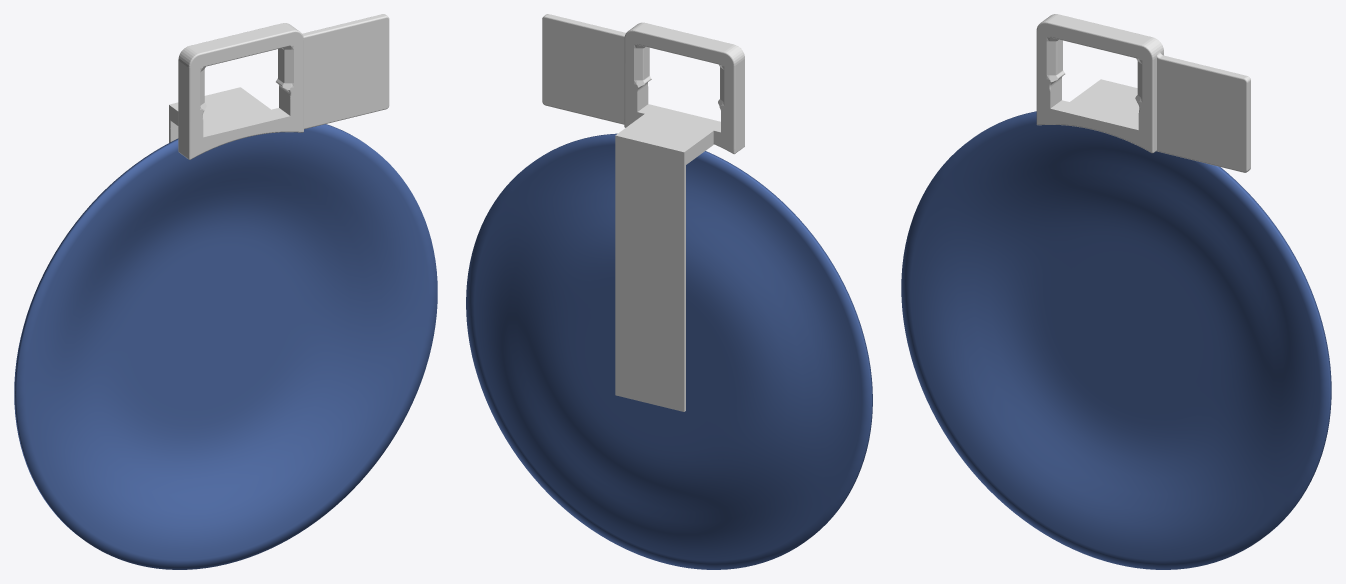
Rendered from plate_with_holder.dae.
3 renders of one model, left to right at view 1: azimuth 30°, elevation 25°; view 2: azimuth 150°, elevation 25°; view 3: azimuth 330°, elevation 25°, orthographic. The views are drawn at different scales.
Visible parts, largest first — view 1: Circle_Circle.006, plate_holder_v2; view 2: Circle_Circle.006, plate_holder_v2; view 3: Circle_Circle.006, plate_holder_v2.
Boxes of the visible parts, x1=… form: Circle_Circle.006: x1=14, y1=124, x2=437, y2=569; plate_holder_v2: x1=169, y1=14, x2=389, y2=159; Circle_Circle.006: x1=466, y1=133, x2=872, y2=569; plate_holder_v2: x1=542, y1=14, x2=744, y2=411; Circle_Circle.006: x1=901, y1=111, x2=1331, y2=569; plate_holder_v2: x1=1036, y1=14, x2=1250, y2=172.
Bounding box in the file's own units: 0.2981 × 0.0517 × 0.3628.
